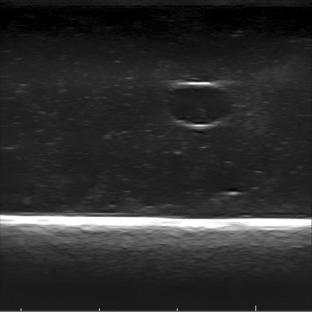vessel: (168, 80, 232, 132)
